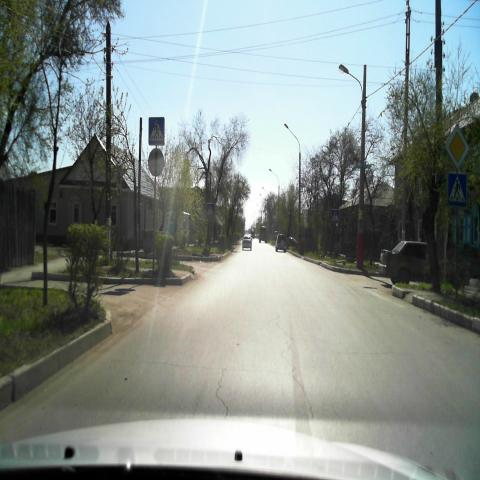2_1: (444, 126, 468, 172)
5_19_1: (448, 170, 468, 208), (149, 117, 166, 146), (331, 208, 339, 222), (207, 203, 215, 216)
